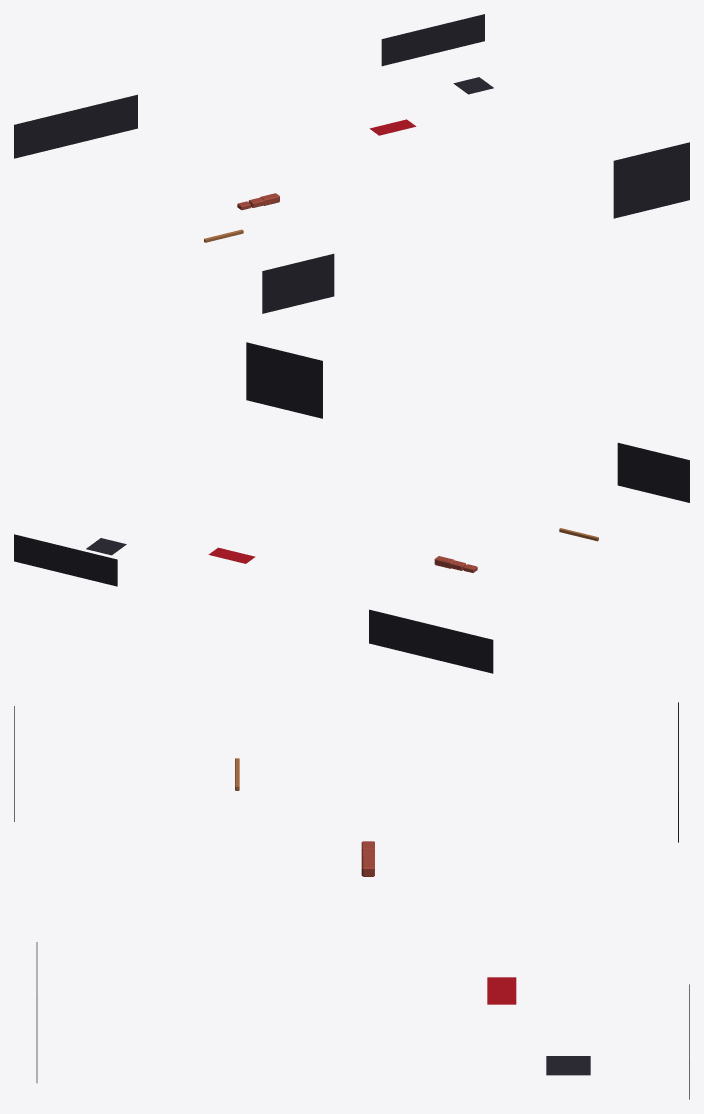
Rendered from D-SHOP.w3.glb.
The picture shows the model from 3 angles, top to bottom: view 1: azimuth 30°, elevation 25°; view 2: azimuth 150°, elevation 25°; view 3: azimuth 270°, elevation 25°; orthographic projection. The views are drawn at different scales.
Visible parts, largest first — view 1: pal_uiDark.001; view 2: pal_uiDark.001; view 3: pal_uiDark.001, pal_blood.001.
Part boxes in pixels (x1,y1,x2,y2): pal_uiDark.001: [14, 14, 689, 313]; pal_uiDark.001: [14, 342, 689, 673]; pal_uiDark.001: [14, 702, 689, 1099]; pal_blood.001: [487, 977, 516, 1004].
Size of the model in its own units: 36.8 by 4.93 by 30.41.
